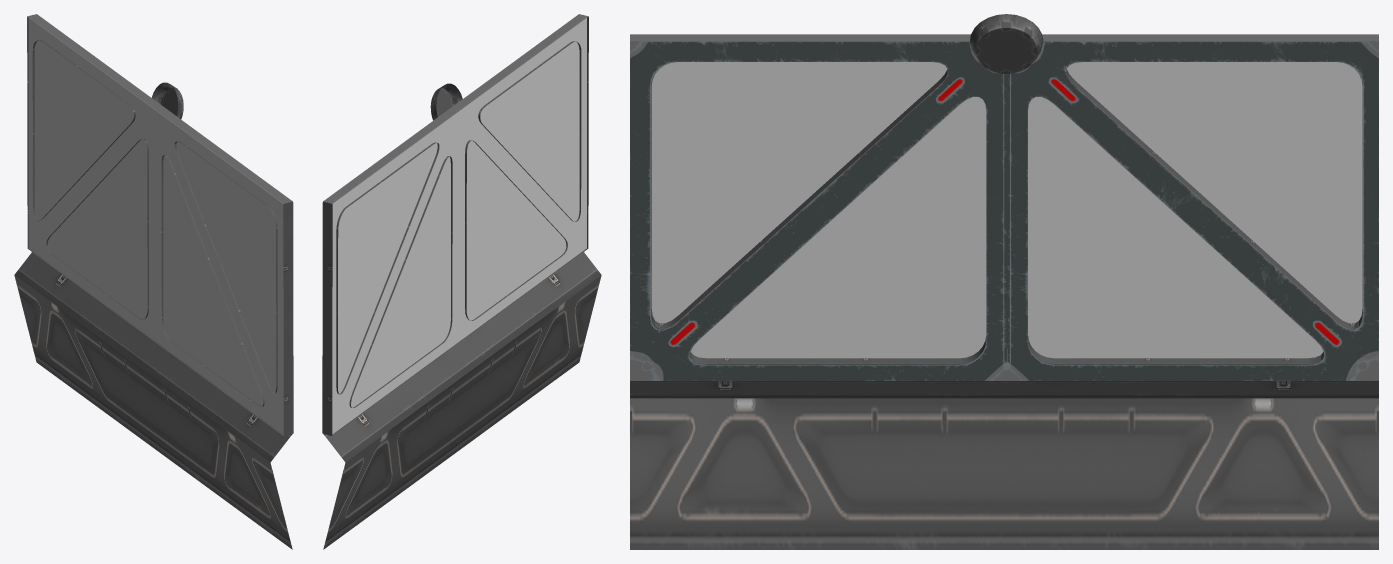
File: WallWindow_Straight.gltf
3 views of the same model, side by side, from view 1: azimuth 30°, elevation 25°; view 2: azimuth 150°, elevation 25°; view 3: azimuth 270°, elevation 25° (orthographic). The views are drawn at different scales.
Parts seen in each view (by area): view 1: WallWindow_Straight; view 2: WallWindow_Straight; view 3: WallWindow_Straight.
Boxes of the visible parts, x1,y1,x2,y2 form: WallWindow_Straight: (14,14,293,549); WallWindow_Straight: (322,14,601,549); WallWindow_Straight: (630,14,1378,549).
Bounding box in the file's own units: 0.3201 × 3.19 × 4.
4 materials, 3 textured.
